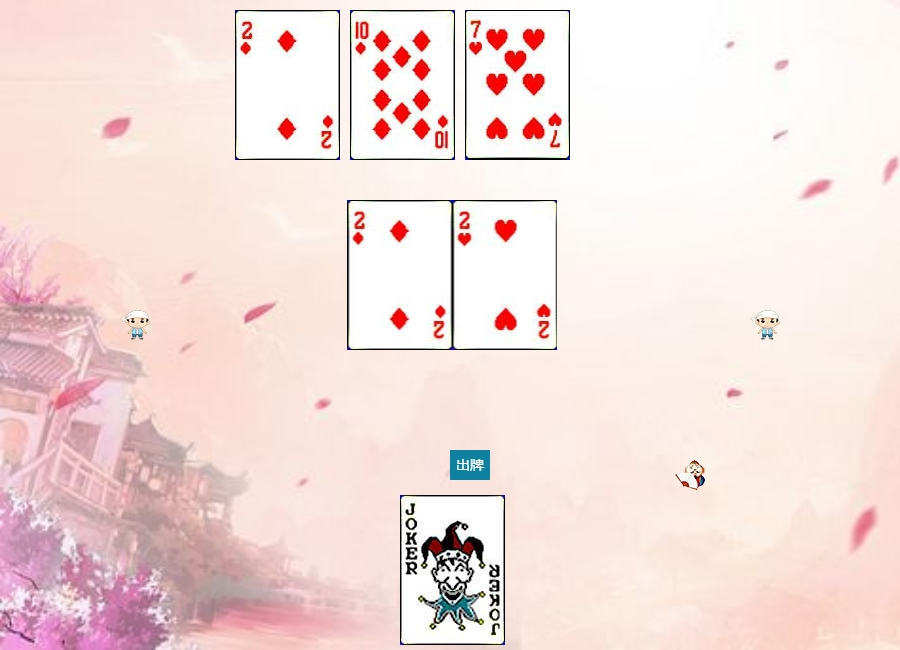10~1: (350, 10, 455, 160)
15~1: (235, 10, 340, 160), (348, 200, 453, 350)
15~3: (453, 200, 558, 350)
17~3: (400, 495, 505, 645)
7~3: (465, 10, 570, 160)
